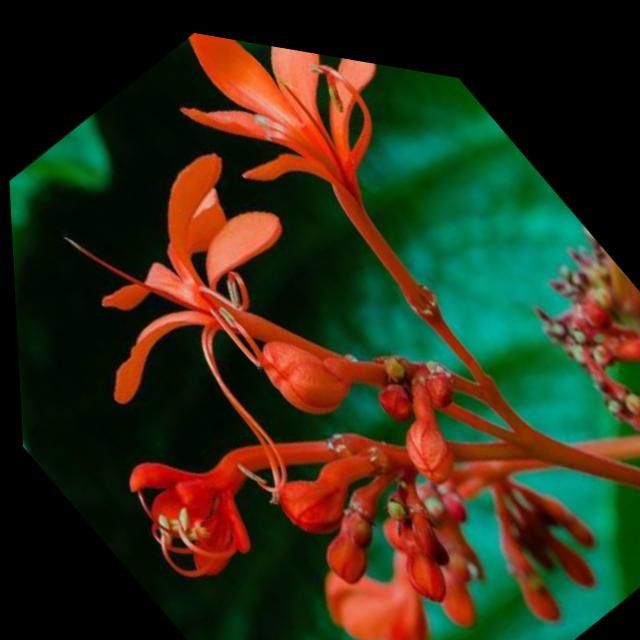Flower: (96, 184, 628, 640), (50, 108, 429, 523), (168, 23, 543, 361)
